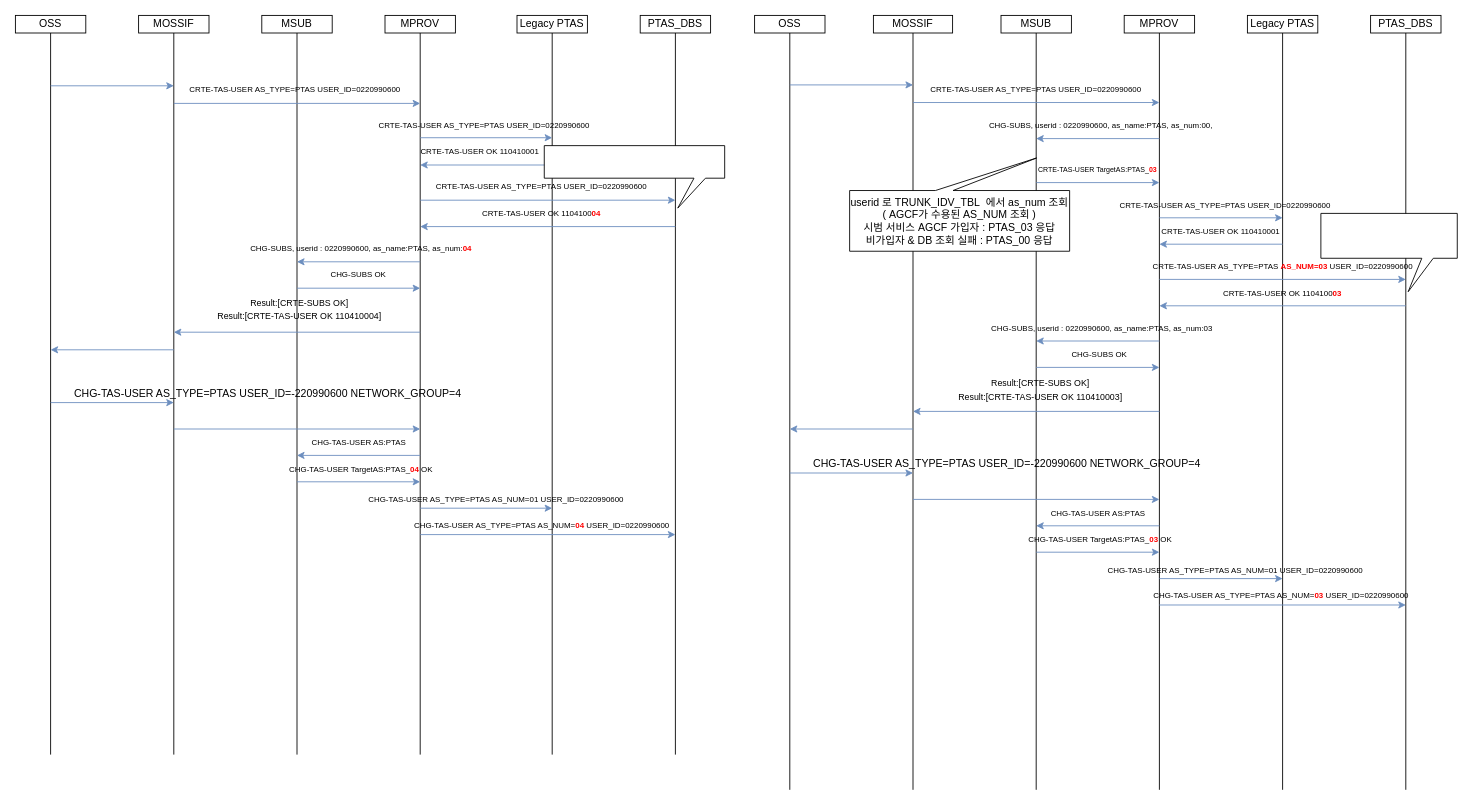
This 1473x806 diagram has some shape labels left out. Here are the shapes that lost their labels. From the top down, the box of each, then its label:
(543, 145, 725, 208): 가입자 분배룰(DIST, LSC)에 따라 분배 03 아닌 값으로 생성 될 수 있음.
(1320, 213, 1457, 292): MPROV가 보내주는 AS_NUM 으로 Reason Code세팅해서 응답
